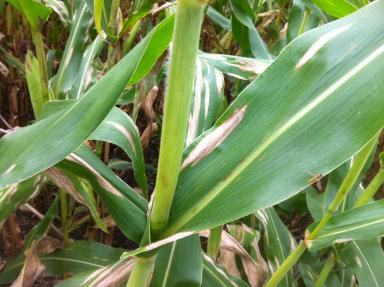Corn leaf blight: (155, 3, 381, 250), (64, 147, 153, 232), (179, 52, 234, 54)
